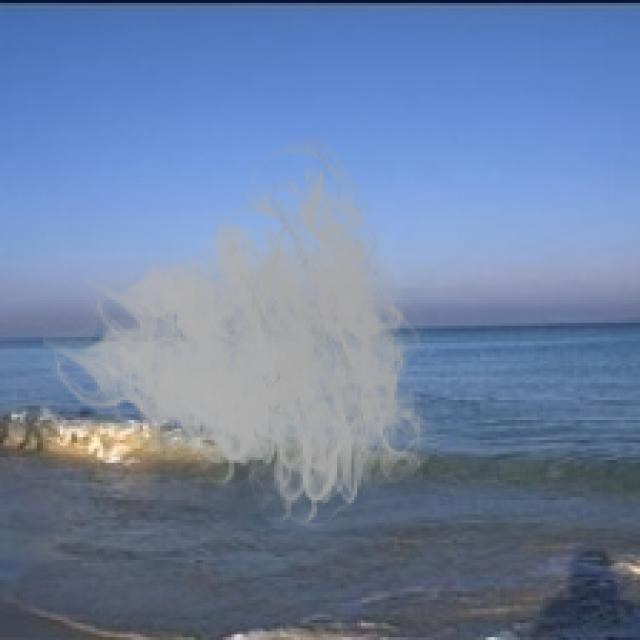smoke: (43, 131, 448, 540)
